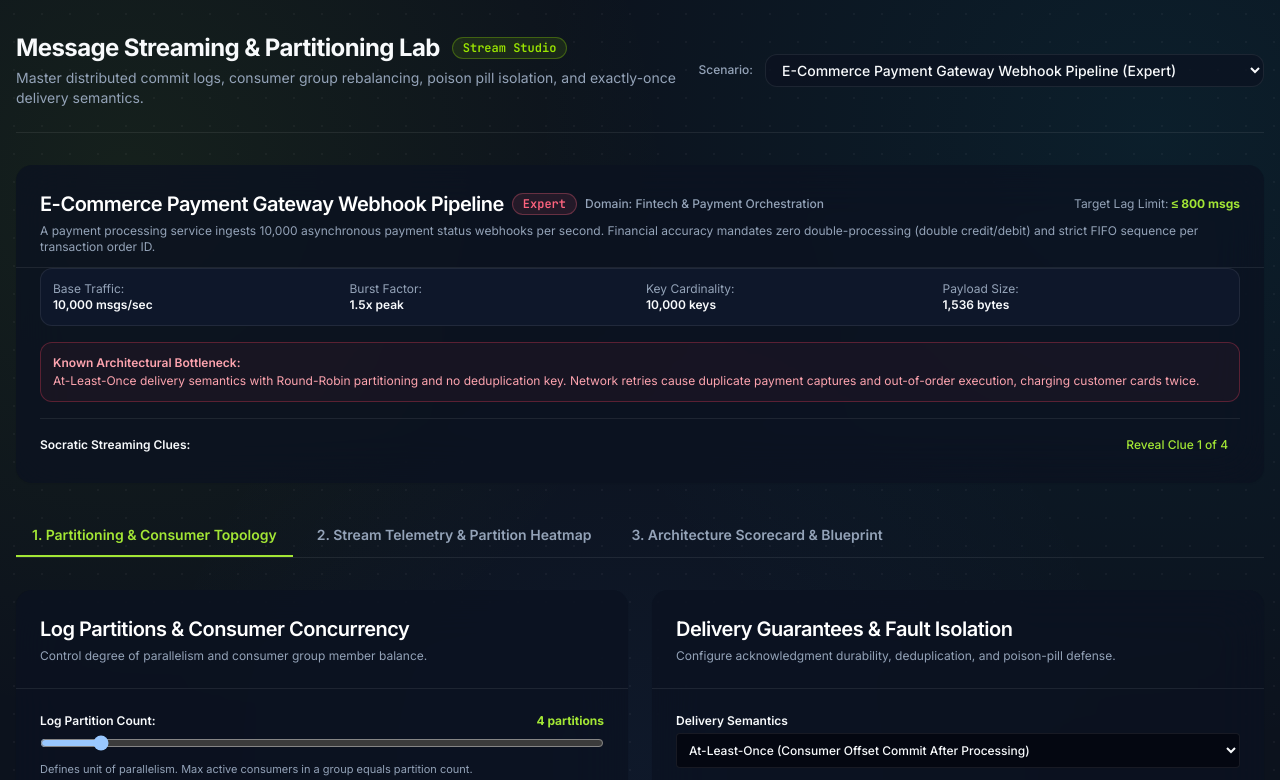
Scenario: StreamLabPage › reveals Socratic guidance hints progressively on click
Click the button "Reveal Clue 1 of 4". click: (1177, 445)
box: x1=1114 y1=431 x2=1240 y2=459
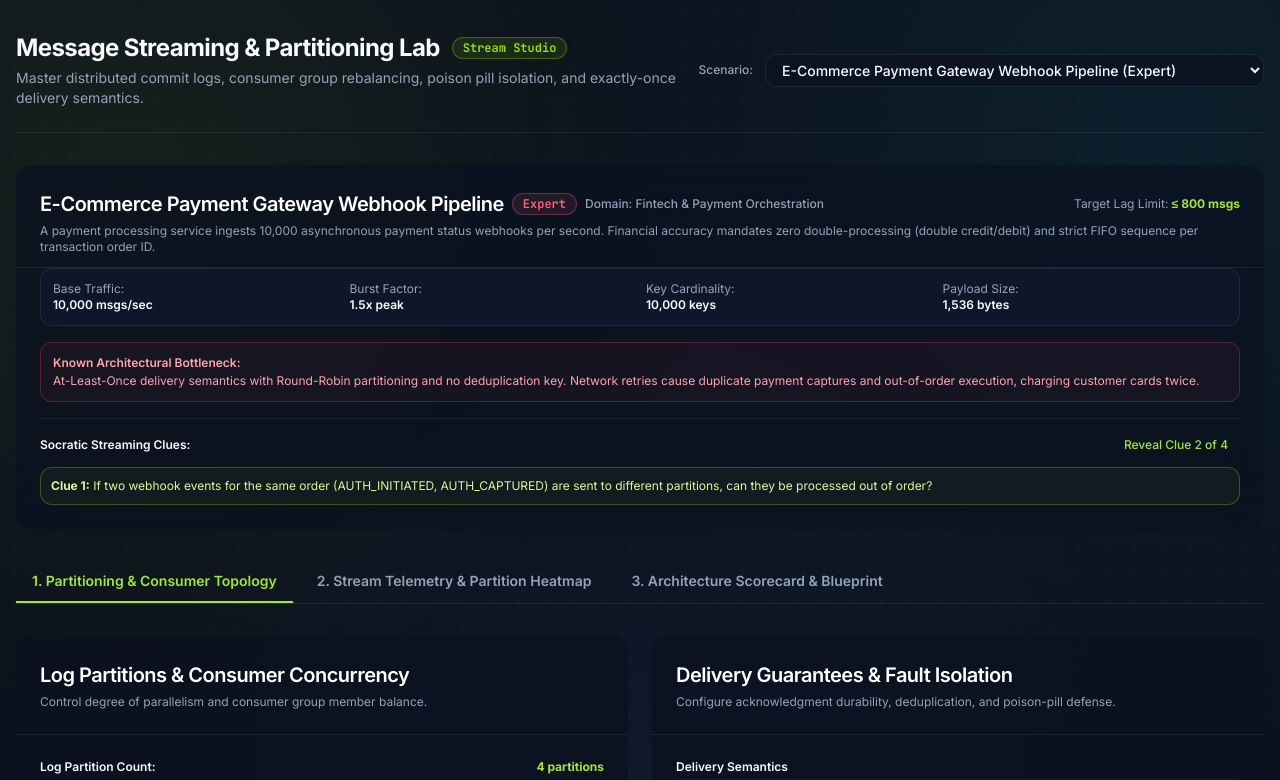
Check: the text "Clue 1:" is shown, box x1=51 y1=478 x2=90 y2=493
Click the button "Reveal Clue 2 of 4". click: (1176, 445)
box: x1=1112 y1=431 x2=1240 y2=459
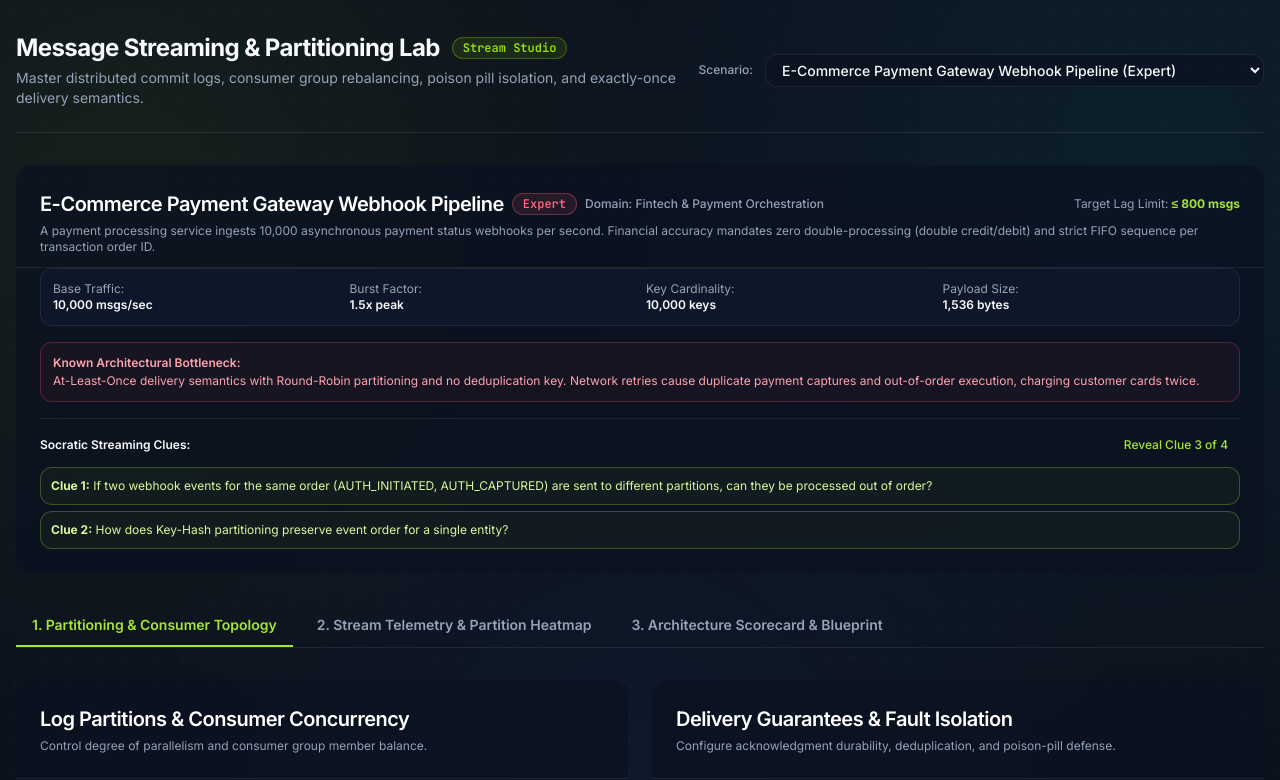
Check: the text "Clue 2:" is shown, box x1=51 y1=522 x2=92 y2=537
